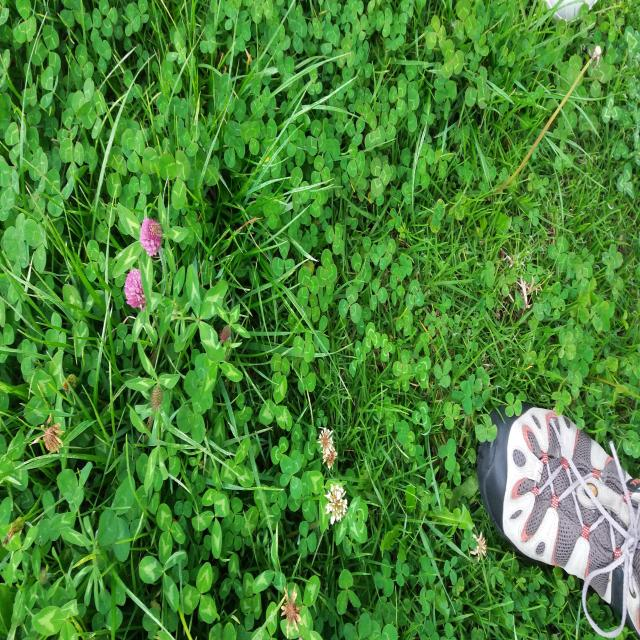Four Leaf Clover: (181, 263, 228, 362), (279, 450, 303, 500)
